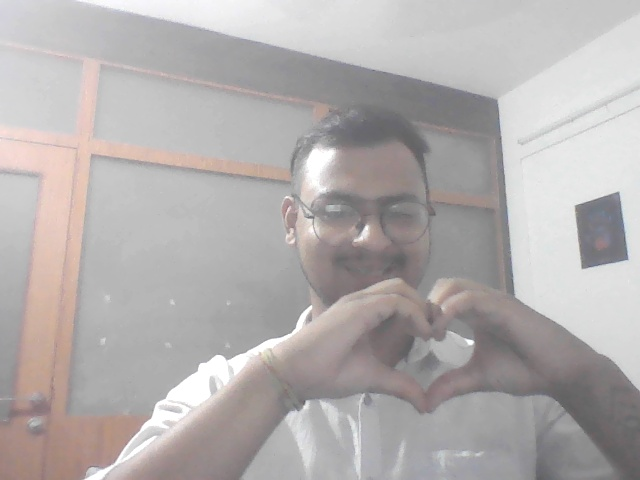Heart: (286, 266, 569, 420)
